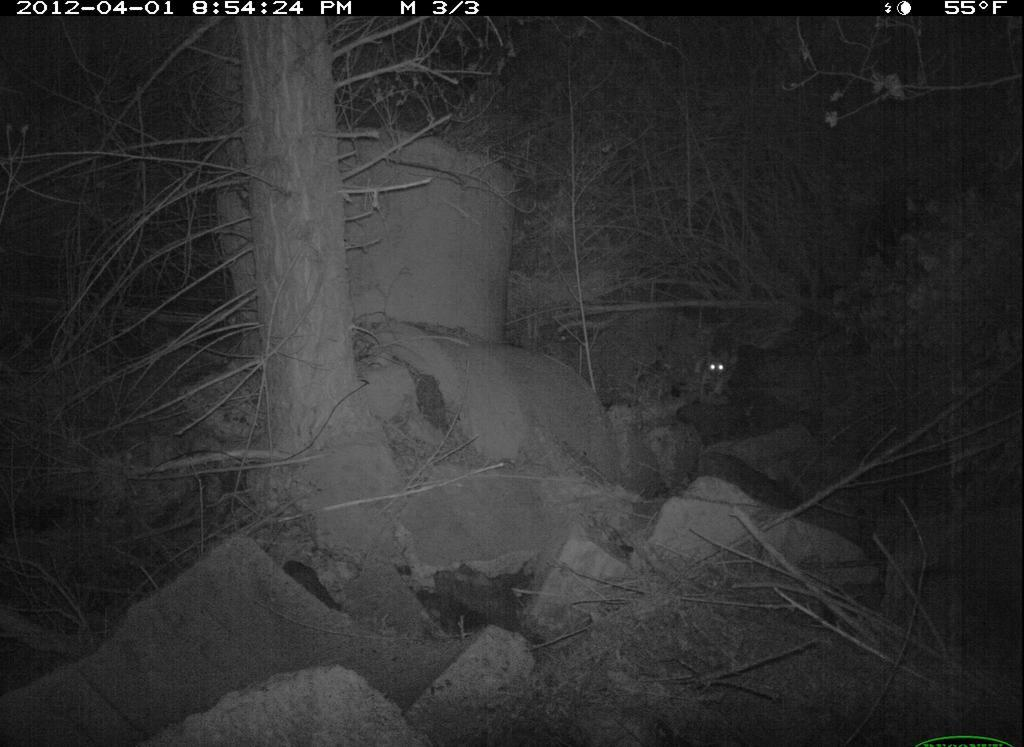bobcat: (674, 335, 751, 411)
